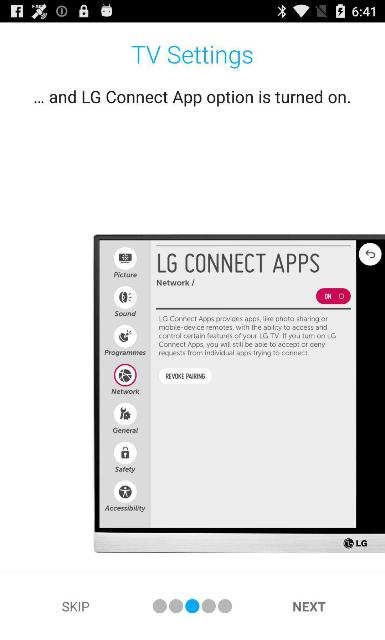Image: (93, 234, 384, 552)
PageIndicator: (152, 598, 232, 614)
Text: (34, 90, 350, 106), (132, 46, 253, 68), (62, 600, 90, 612), (293, 601, 326, 611)
UpperTaskBar: (0, 0, 384, 22)
